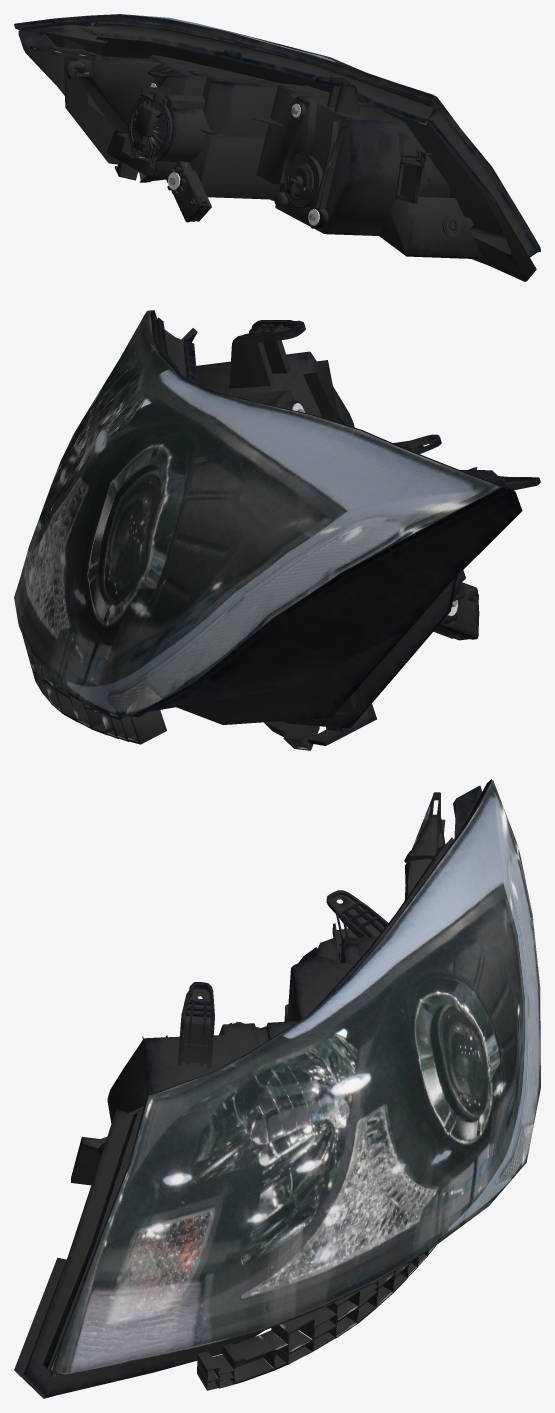
The model's file is E5_灯光系统_前大灯总成.FBX.
The picture shows the model from 3 angles, top to bottom: view 1: azimuth 30°, elevation 25°; view 2: azimuth 150°, elevation 25°; view 3: azimuth 270°, elevation 25°; orthographic projection. The views are drawn at different scales.
Parts seen in each view (by area): view 1: QDD_Z; view 2: QDD_Z; view 3: QDD_Z.
Part boxes in pixels (x1,y1,x2,y2): QDD_Z: [14, 14, 540, 281]; QDD_Z: [14, 310, 540, 750]; QDD_Z: [14, 779, 540, 1398].
Bounding box in the file's own units: 51.46 × 30.77 × 40.96.
